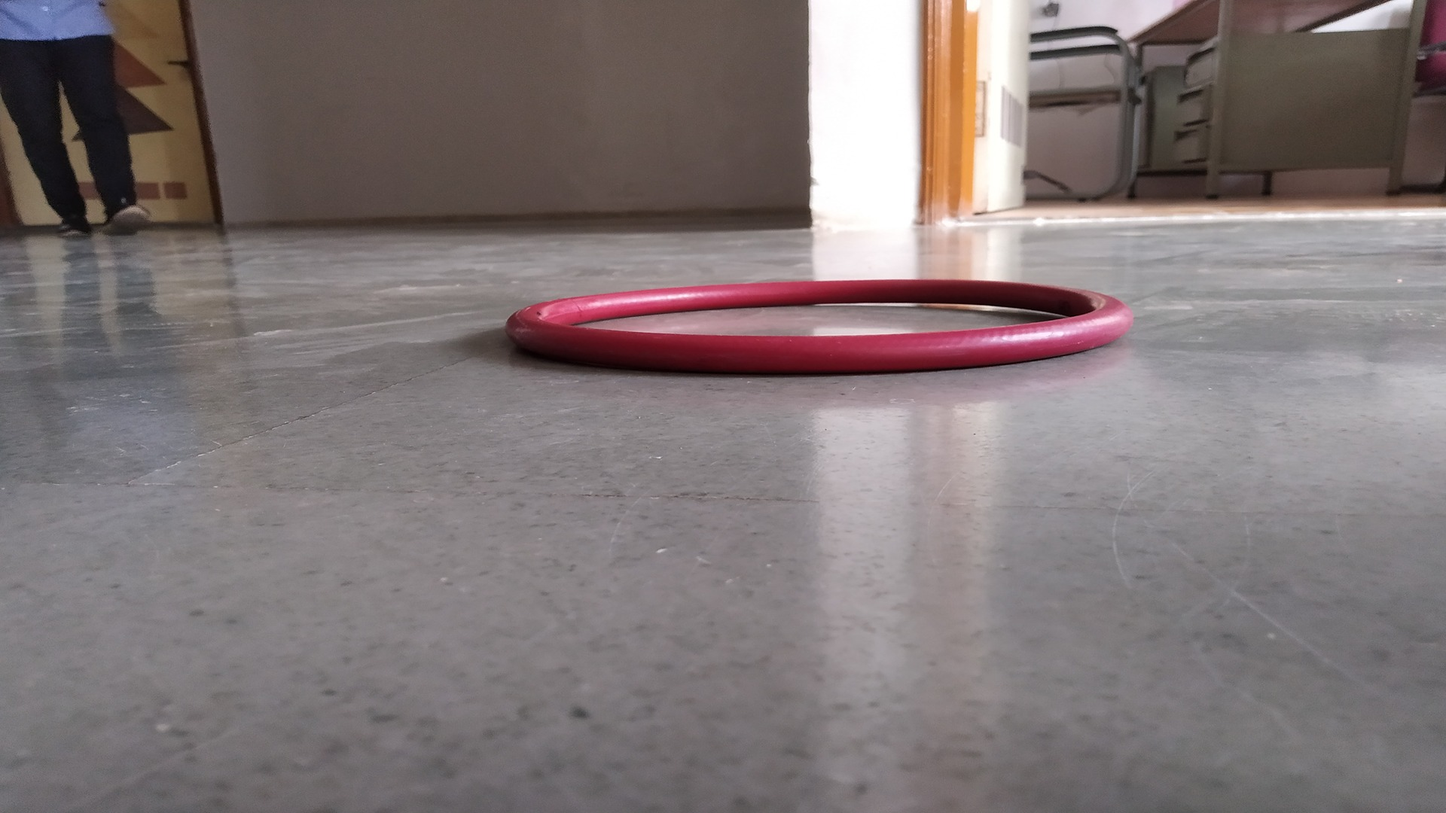Red ring: (507, 278, 1136, 378)
